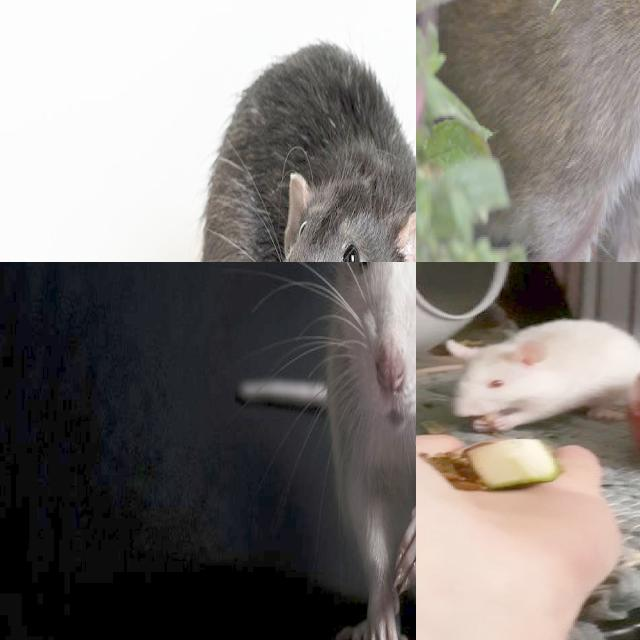rat: (32, 29, 416, 262), (282, 262, 416, 640), (460, 0, 640, 262), (443, 320, 640, 432)
